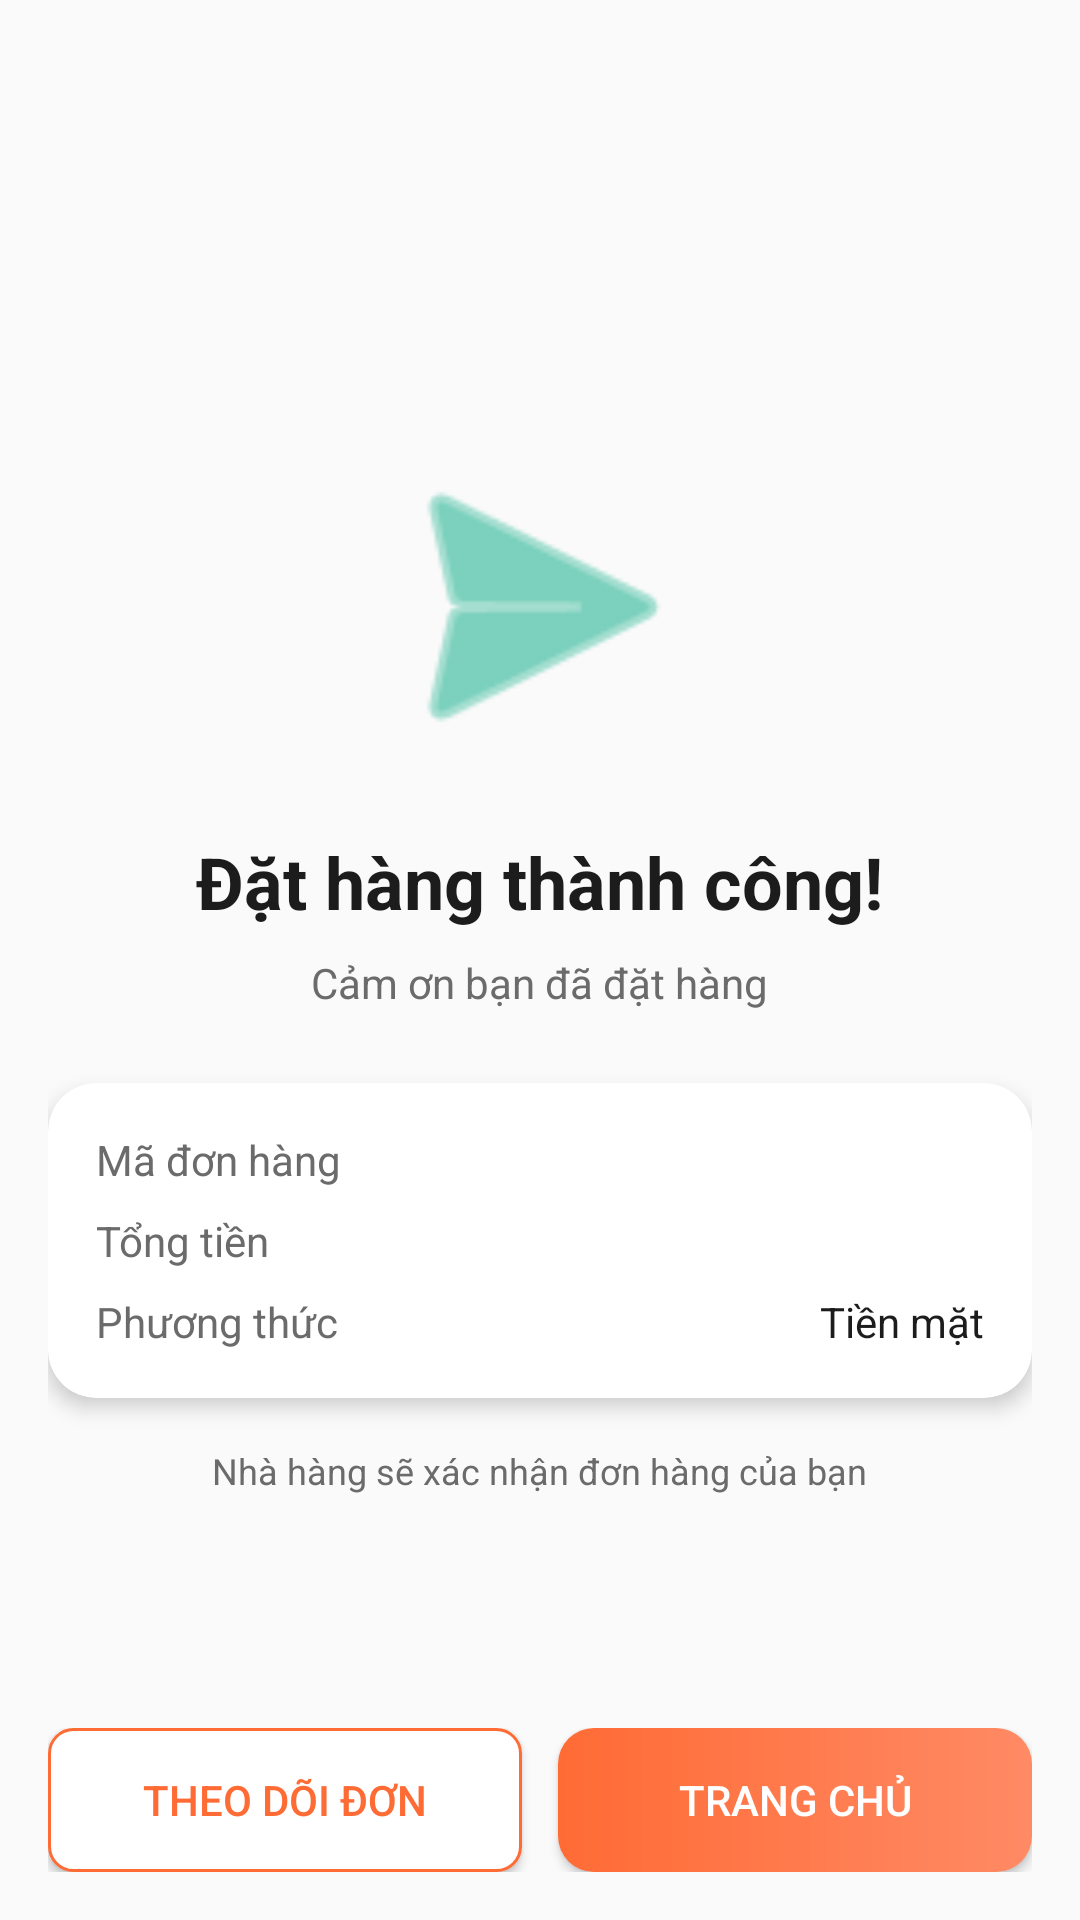

Named icons in this screenshot (1080*1920) and their centers, [x,y]:
send: [543,607]
